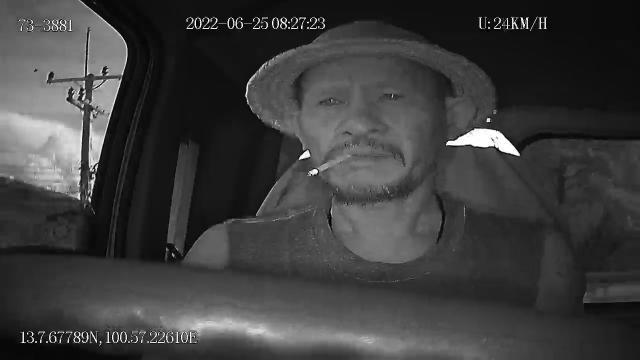SafeDriving: (312, 86, 351, 112), (372, 82, 410, 108)
Smoking: (306, 148, 354, 178)
